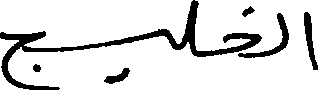ا: (301, 9, 316, 70)
ج: (0, 29, 44, 89)
خ: (220, 4, 261, 58)
ل: (181, 0, 197, 57), (275, 11, 290, 55)
ي: (103, 26, 170, 83)
